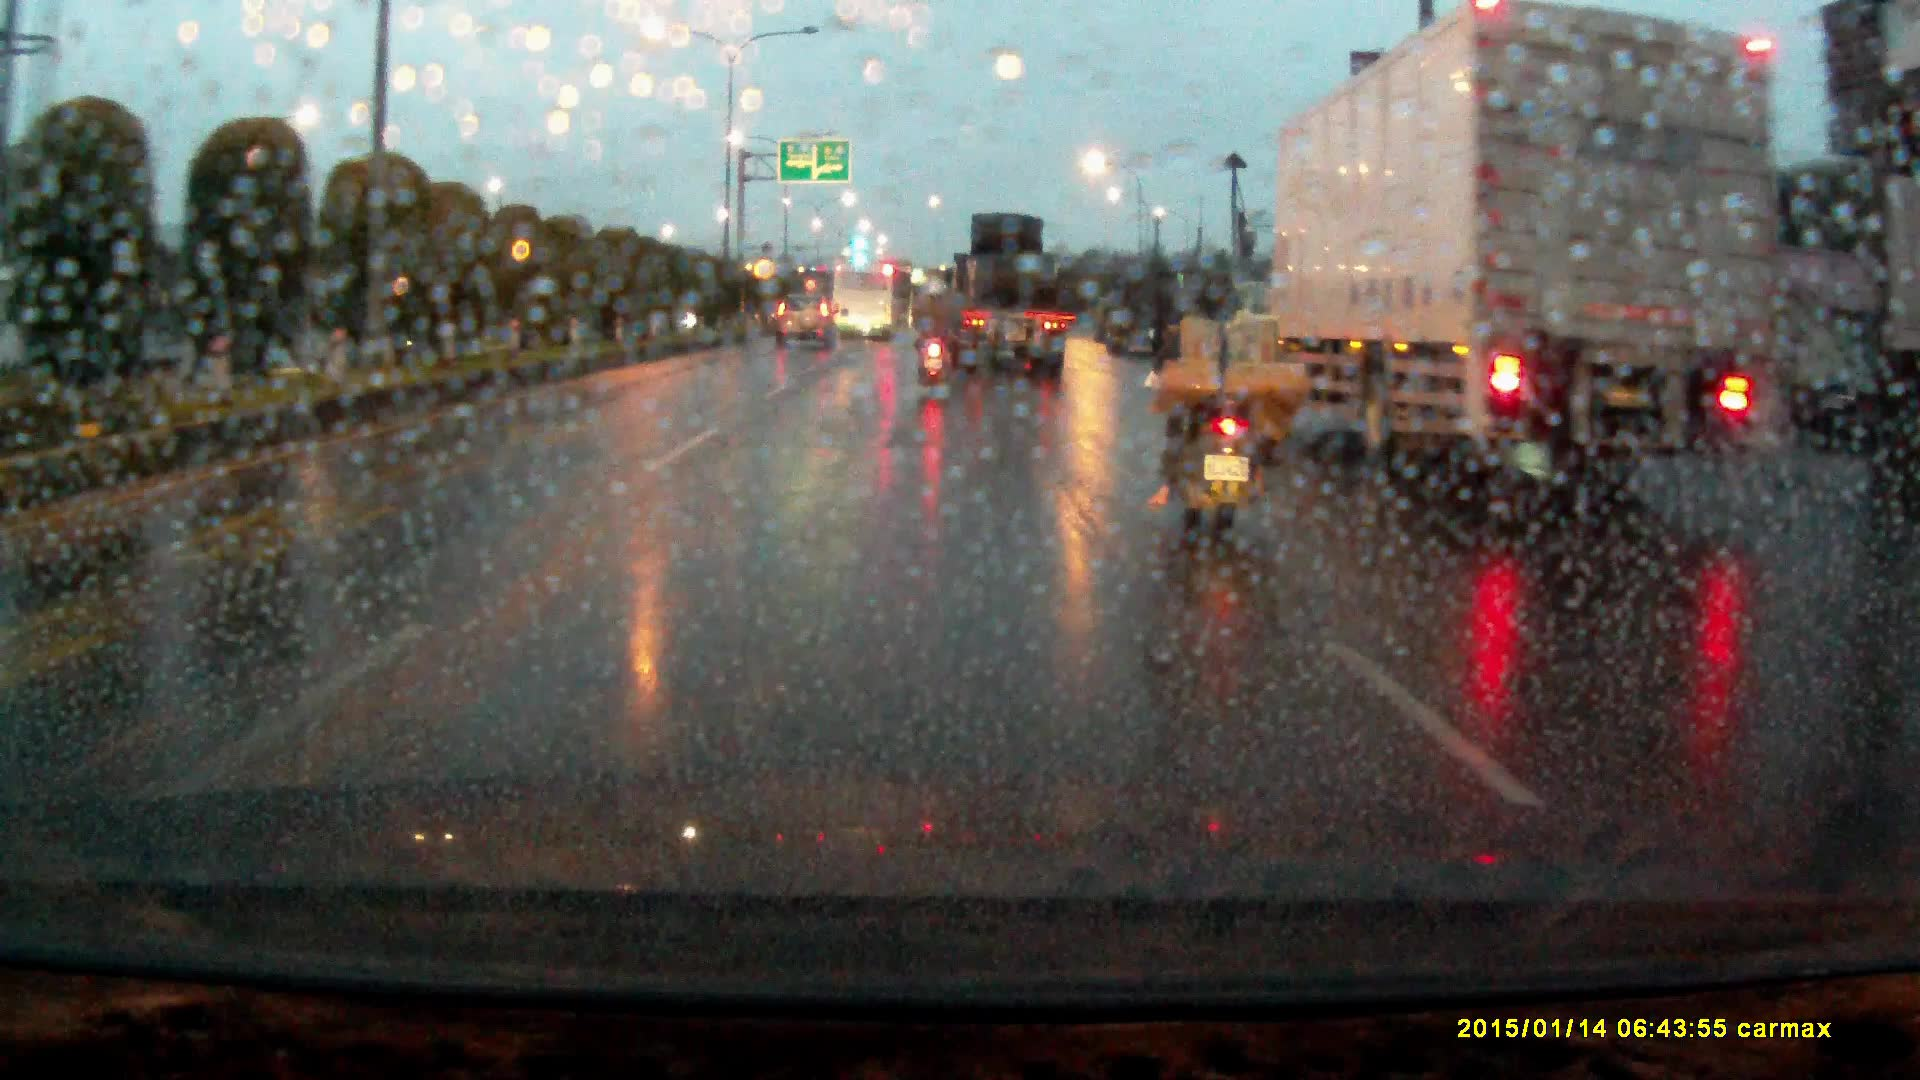rider: (1150, 253, 1317, 556), (913, 288, 955, 389)
vehicle: (1263, 13, 1793, 476), (934, 208, 1066, 372), (832, 265, 895, 340), (775, 283, 838, 345)
